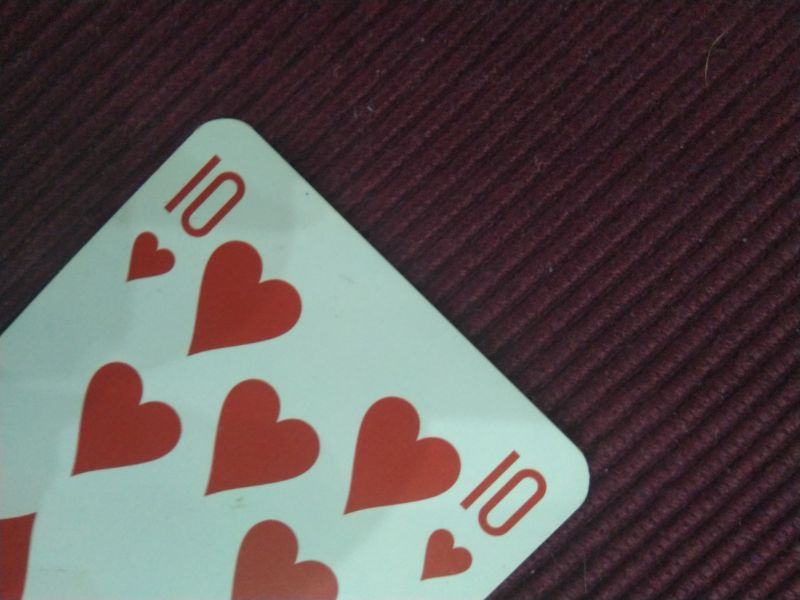Th: (415, 446, 554, 583), (122, 151, 249, 289)
